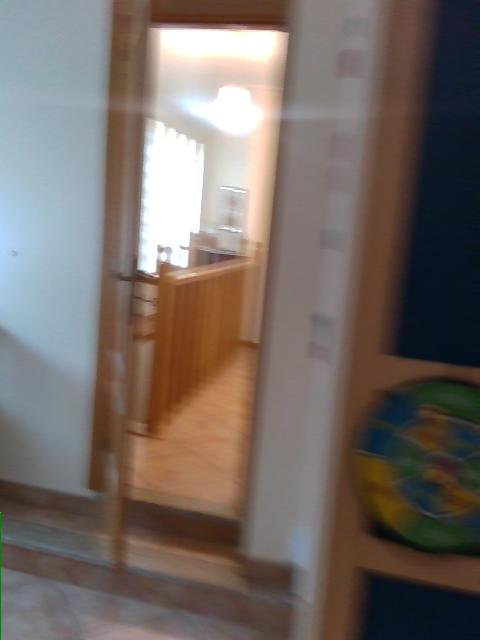open_door: (85, 1, 299, 535)
